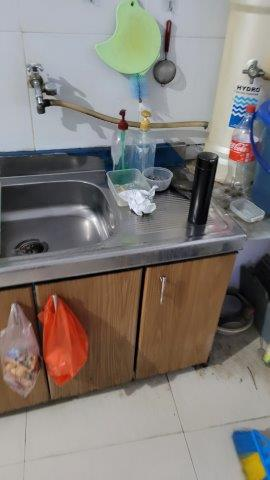kertas: (119, 182, 159, 219)
